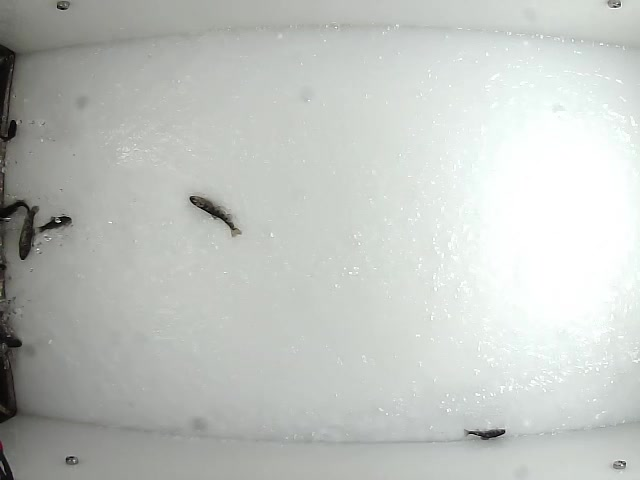fish: (188, 191, 244, 239), (16, 201, 42, 261), (32, 212, 73, 235), (461, 423, 507, 441)
